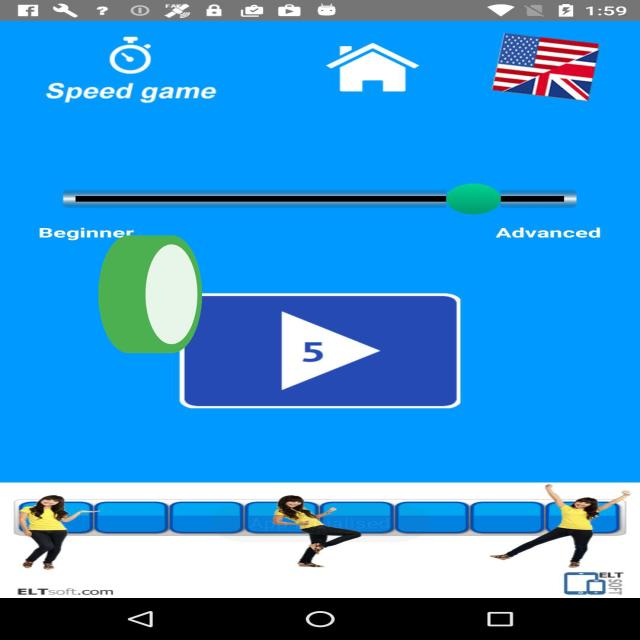social proof: (94, 190, 206, 408)
